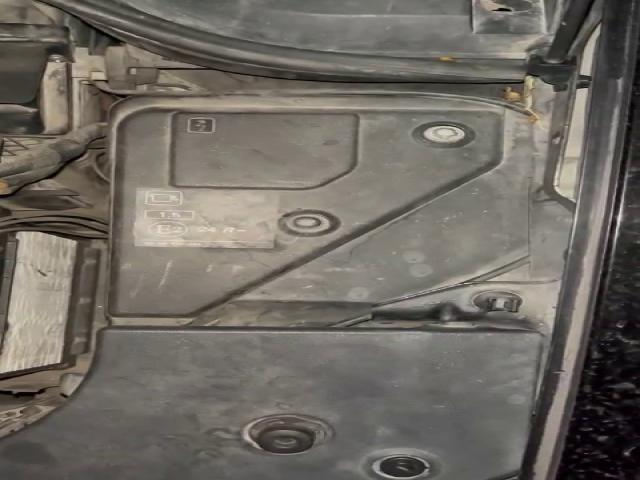accumulator: (3, 214, 92, 379)
fuse_box: (102, 94, 538, 328)
